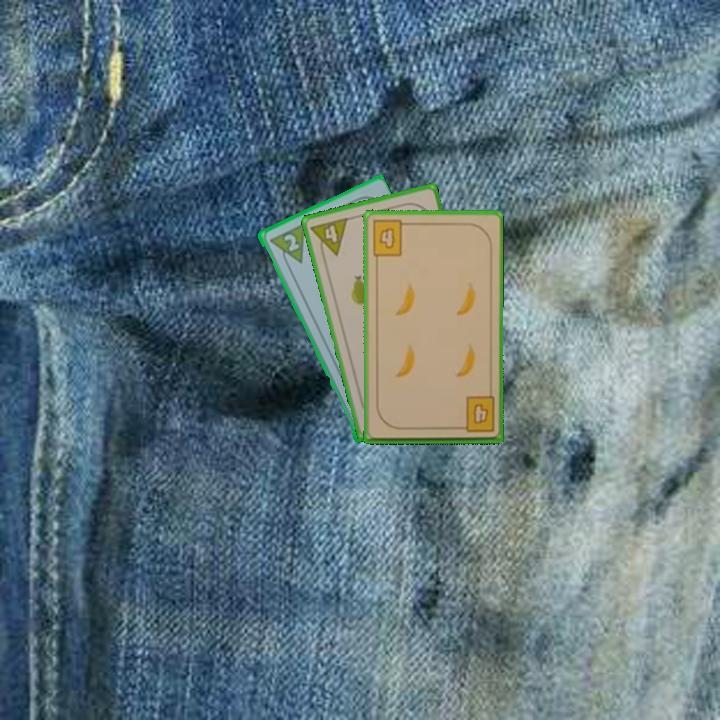2p: (265, 220, 307, 271)
4b: (453, 394, 498, 435), (369, 217, 412, 259)
4p: (307, 214, 351, 261)
